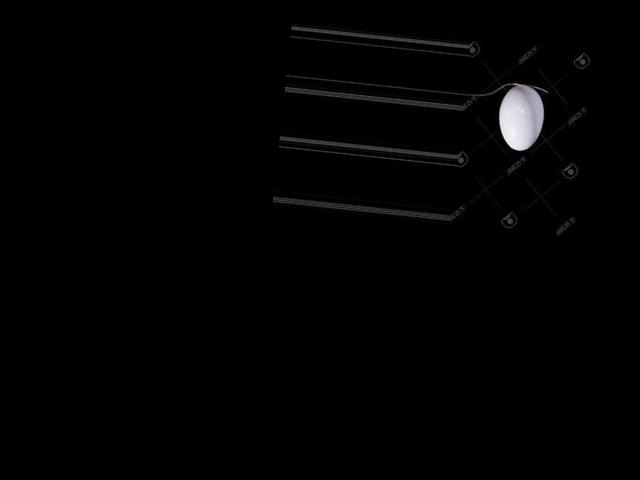egg: (495, 82, 546, 151)
